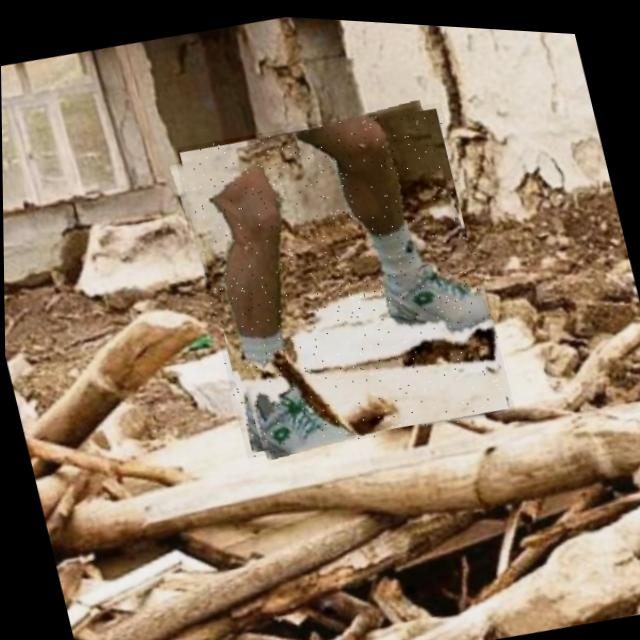Person in Rubble: (171, 84, 515, 468)
